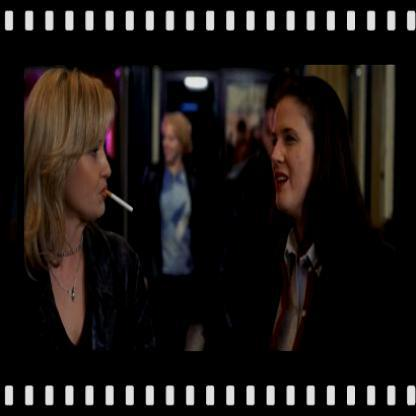cigarette: (103, 187, 135, 216)
person: (238, 77, 392, 361), (20, 72, 135, 352)
